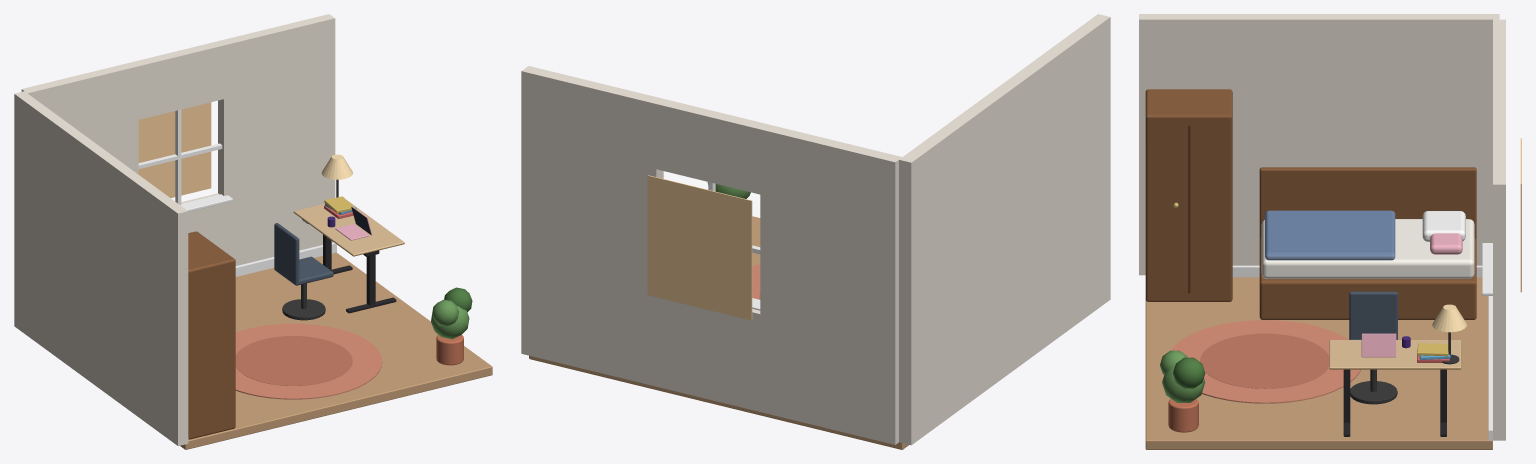
File: room.glb
3 views of the same model, side by side, from view 1: azimuth 30°, elevation 25°; view 2: azimuth 150°, elevation 25°; view 3: azimuth 270°, elevation 25° (orthographic). The views are drawn at different scales.
Parts seen in each view (by area): view 1: wallLeft, wallBackRight, floor, closetBody, wallBackLeft, wallBackHeader, sky, rugDisc, rugInner, deskTop, wallBackSill, chairBack (+11 smaller); view 2: wallLeft, wallBackLeft, wallBackRight, sky, wallBackSill, wallBackHeader, floor; view 3: wallLeft, floor, closetBody, bedHeadboard, bedFrame, bedBlanket, bedMattress, rugInner, rugDisc, wallBackRight, deskTop, chairBack (+16 smaller).
Part boxes in pixels (x1,y1,x2,y2): wallLeft: (14, 91, 188, 445); wallBackRight: (218, 14, 335, 265); floor: (180, 252, 492, 449); closetBody: (188, 231, 235, 439); wallBackLeft: (21, 62, 138, 174); wallBackHeader: (133, 41, 223, 119); sky: (138, 102, 211, 197); rugDisc: (235, 323, 382, 399); rugInner: (235, 336, 352, 385); deskTop: (293, 200, 404, 256); wallBackSill: (181, 193, 223, 250); chairBack: (274, 223, 299, 282); wallLeft: (899, 14, 1110, 445); wallBackLeft: (760, 124, 902, 444); wallBackRight: (521, 66, 663, 386); sky: (647, 175, 752, 320); wallBackSill: (656, 297, 760, 411); wallBackHeader: (656, 99, 767, 194); floor: (529, 216, 908, 449); wallLeft: (1139, 14, 1499, 275); floor: (1145, 277, 1492, 449); closetBody: (1145, 89, 1232, 301); bedHeadboard: (1259, 167, 1476, 239); bedFrame: (1259, 238, 1476, 319); bedBlanket: (1265, 210, 1395, 260); bedMattress: (1261, 219, 1474, 278); rugInner: (1200, 333, 1329, 388); rugDisc: (1171, 320, 1360, 403); wallBackRight: (1493, 125, 1505, 440); deskTop: (1329, 340, 1461, 369); chairBack: (1349, 291, 1397, 339).
Size of the model in its own units: 3.72 by 2.7 by 3.52.
Materials: 1 (1 with a texture image).
